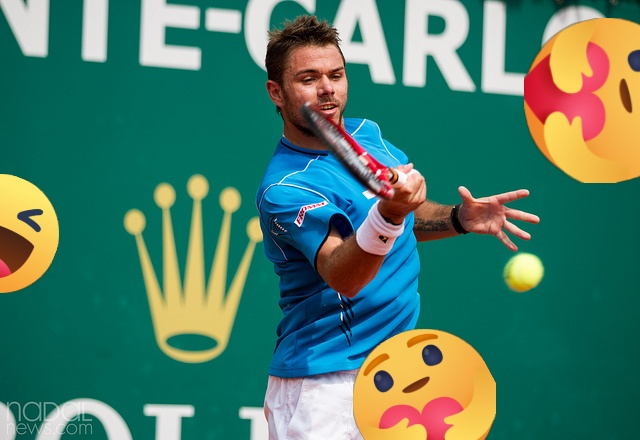care: (524, 18, 640, 183), (353, 329, 496, 440)
haha: (0, 174, 59, 293)
